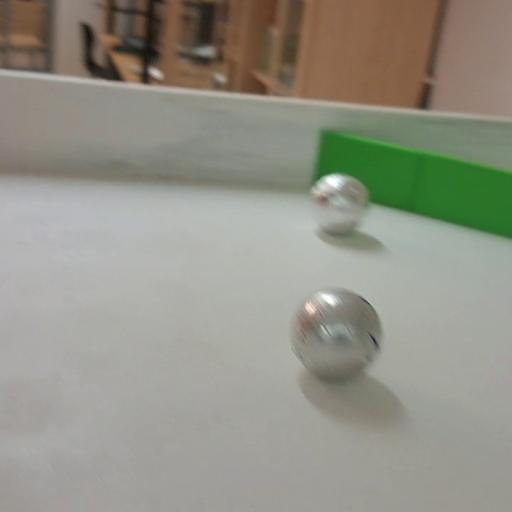alive: (290, 288, 383, 381), (311, 173, 369, 235)
